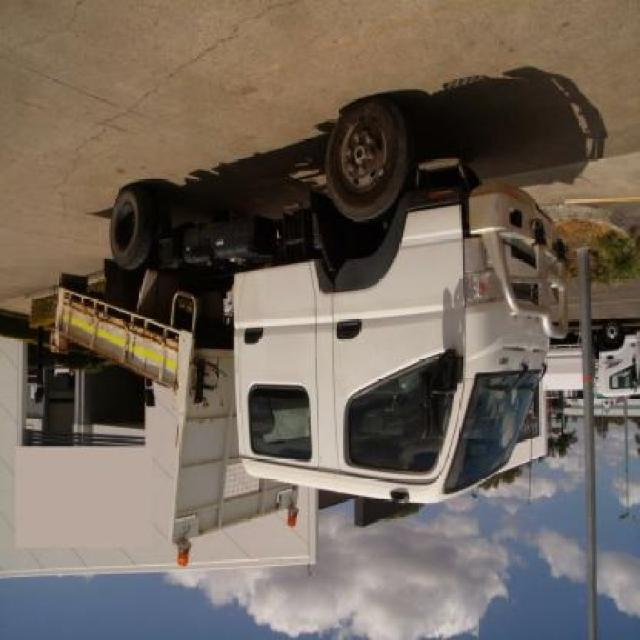truck: (52, 99, 581, 566)
